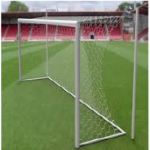goals: (16, 13, 128, 148)
